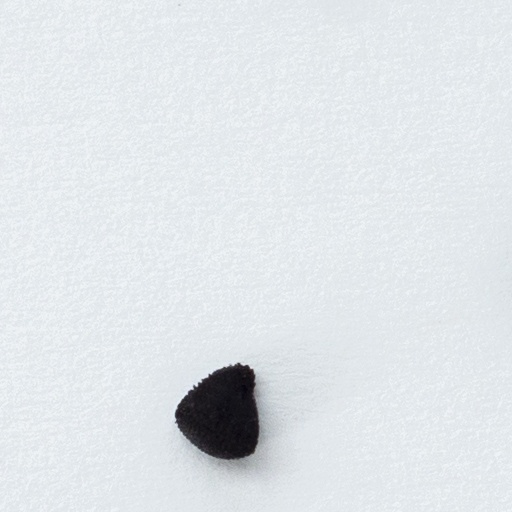Agrostemma: (171, 359, 262, 468)
